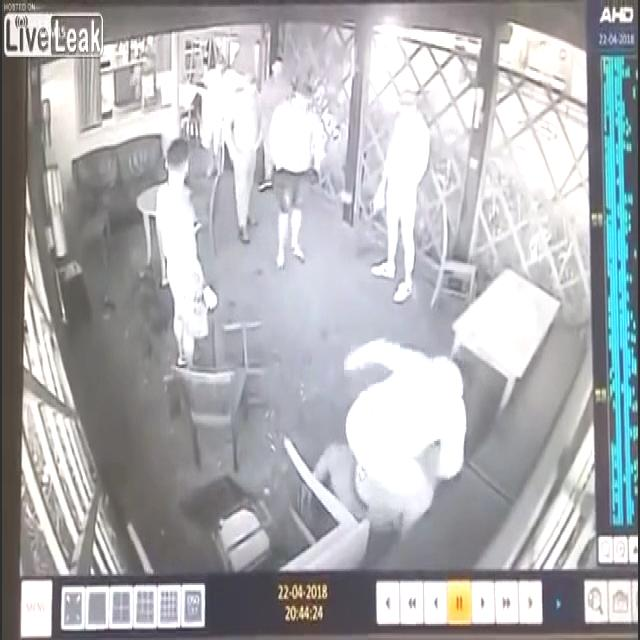fight: (313, 301, 475, 523)
